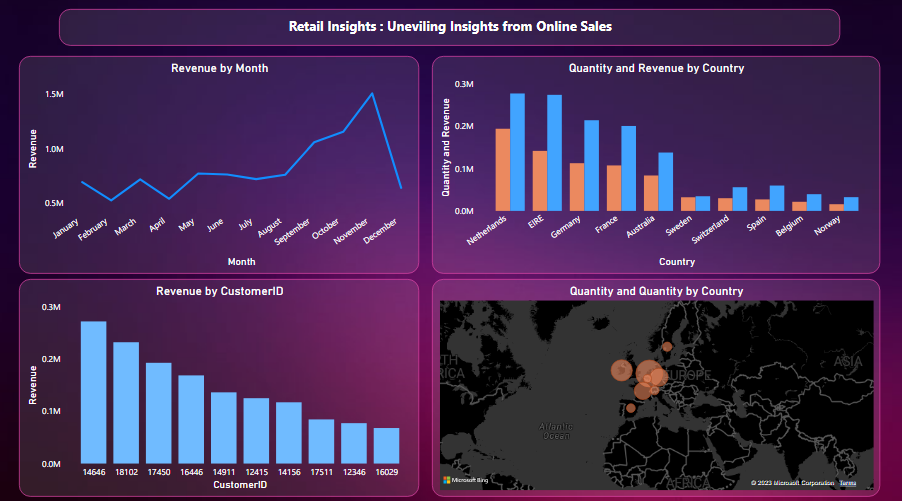

The dashboard page shown, as its layout file describes it:
{"tool":"powerbi","page":{"name":"Page 1","canvas":[1280,720],"ordinal":0},"visuals":[{"type":"lineChart","fields":{"Category":["Online Retail.InvoiceDate.Variation.Date Hierarchy.Month"],"Y":["Sum(Online Retail.Revenue)"]},"box":[29.7,86.3,565.8,308.4],"z":0},{"type":"clusteredColumnChart","fields":{"Category":["Online Retail.Country"],"Y":["Sum(Online Retail.Quantity)","Sum(Online Retail.Revenue)"]},"box":[613.9,86.3,633.7,308.4],"z":1000},{"type":"clusteredColumnChart","fields":{"Category":["Online Retail.CustomerID"],"Y":["Sum(Online Retail.Revenue)"]},"box":[29.7,401.7,565.8,308.4],"z":2000},{"type":"map","fields":{"Size":["Sum(Online Retail.Quantity)"],"Category":["Online Retail.Country"]},"box":[613.9,401.7,633.7,308.4],"z":3000},{"type":"textbox","box":[86.3,19.8,1104.8,52.3],"z":4000}]}

Visuals, with their boxes in screenshot pixels (x1, y1, x2, y2), scaled from the page's 1280x720 canvas onto the 902x501 screenshot:
lineChart - Online Retail.InvoiceDate.Variation.Date Hierarchy.Month x Sum(Online Retail.Revenue): <region>21, 60, 420, 275</region>
clusteredColumnChart - Online Retail.Country x Sum(Online Retail.Quantity): <region>433, 60, 879, 275</region>
clusteredColumnChart - Online Retail.CustomerID x Sum(Online Retail.Revenue): <region>21, 280, 420, 494</region>
map - Sum(Online Retail.Quantity) x Online Retail.Country: <region>433, 280, 879, 494</region>
textbox: <region>61, 14, 839, 50</region>
